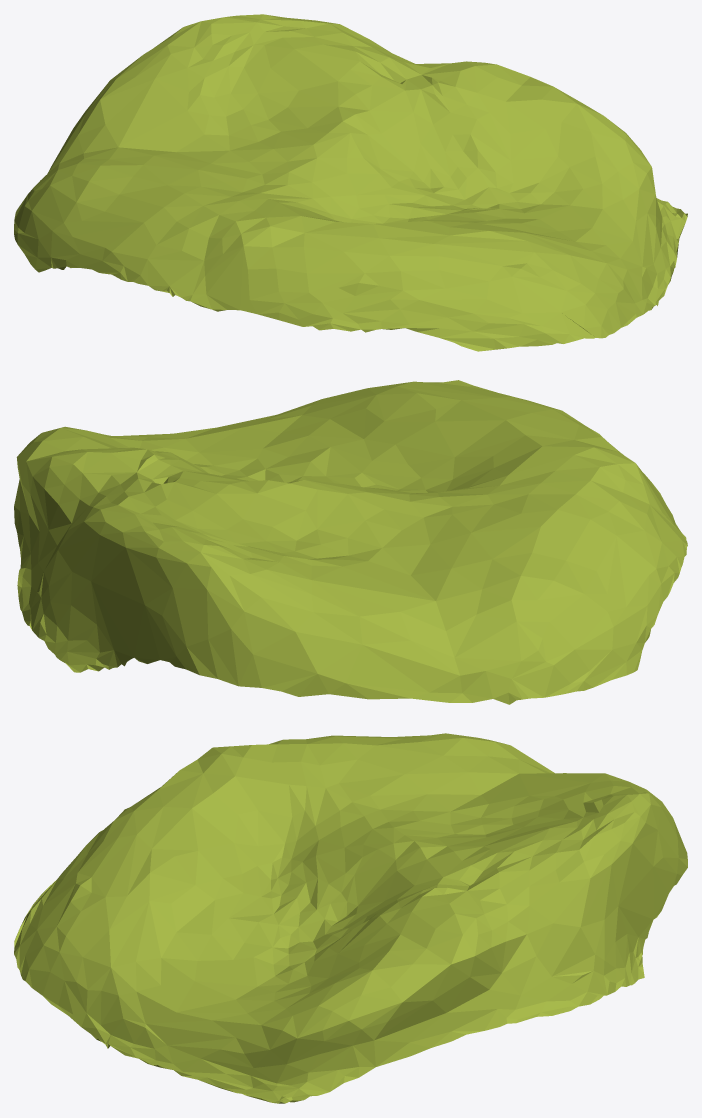
Rendered from hill_007.glb.
3 views of the same model, one above another, from view 1: azimuth 30°, elevation 25°; view 2: azimuth 150°, elevation 25°; view 3: azimuth 270°, elevation 25° (orthographic). The views are drawn at different scales.
Parts seen in each view (by area): view 1: hill_007; view 2: hill_007; view 3: hill_007.
Part boxes in pixels (bbox=[...]): hill_007: bbox=[14, 14, 687, 351]; hill_007: bbox=[14, 380, 687, 704]; hill_007: bbox=[14, 733, 687, 1103].
Size of the model in its own units: 77.12 by 19.23 by 74.51.
Materials: 1 (1 with a texture image).
